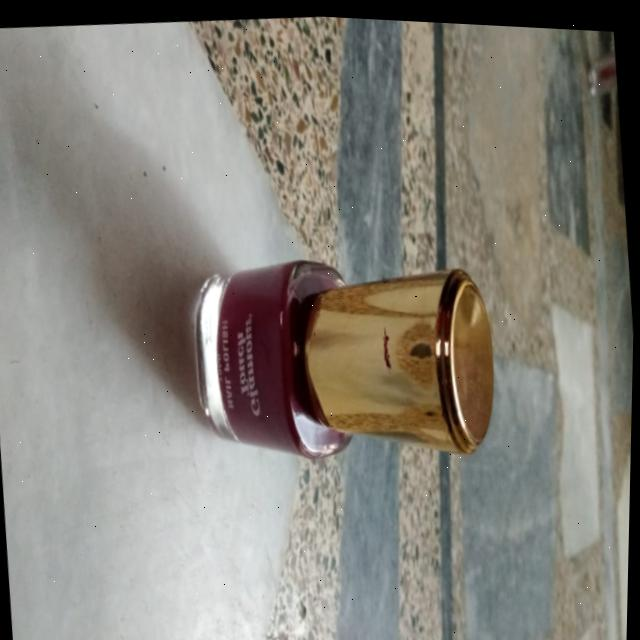nail polish: (165, 195, 519, 517)
